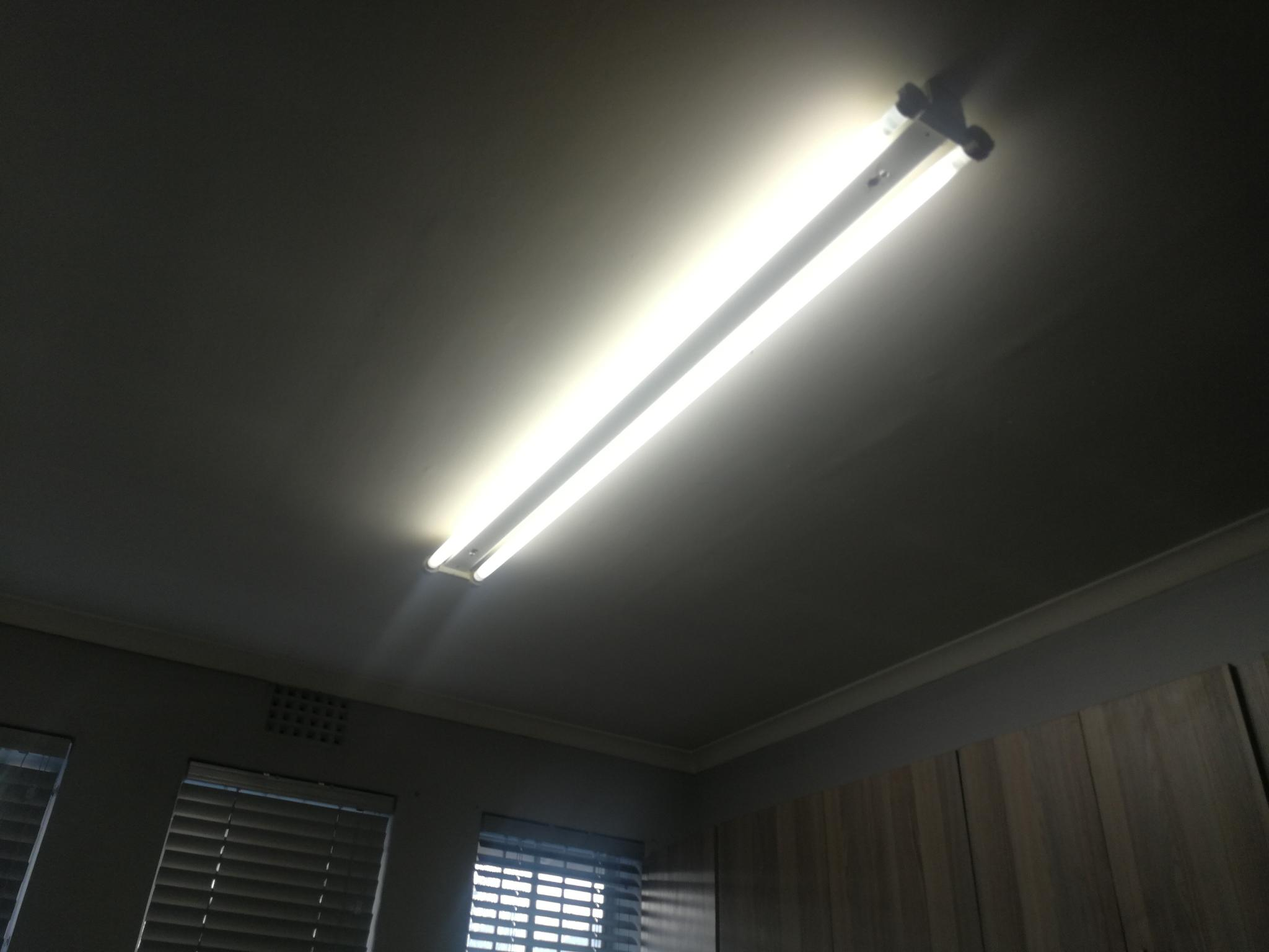light: (422, 71, 990, 586)
